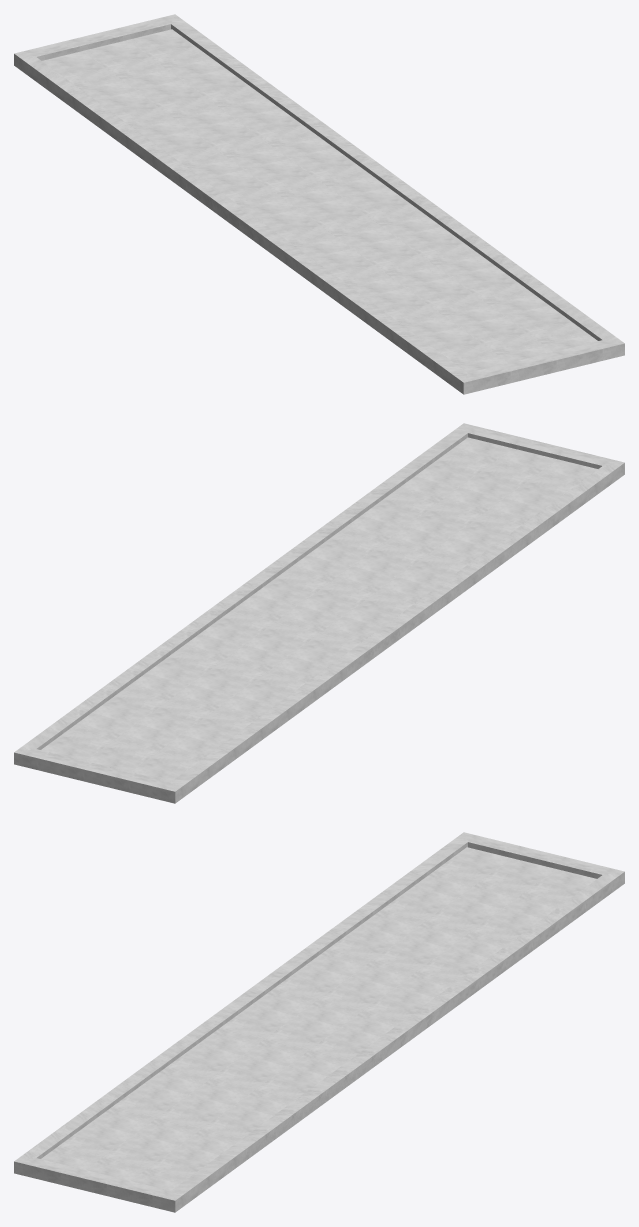
Rendered from RoofUpdate.fbx.
The picture shows the model from 3 angles, top to bottom: view 1: azimuth 30°, elevation 25°; view 2: azimuth 150°, elevation 25°; view 3: azimuth 330°, elevation 25°; orthographic projection.
Parts seen in each view (by area): view 1: RoofBorder, CofferCeiling_17, CofferCeiling_8, CofferCeiling_19, CofferCeiling_4, CofferCeiling_5, CofferCeiling_13, CofferCeiling_23, CofferCeiling_7, CofferCeiling_11, CofferCeiling_14, CofferCeiling_10 (+13 smaller); view 2: RoofBorder, CofferCeiling_11, CofferCeiling_7, CofferCeiling_13, CofferCeiling_20, CofferCeiling_17, CofferCeiling_19, CofferCeiling_4, CofferCeiling_5, CofferCeiling_10, CofferCeiling_16, CofferCeiling_1 (+13 smaller); view 3: RoofBorder, CofferCeiling_15, CofferCeiling_19, CofferCeiling_21, CofferCeiling_3, CofferCeiling_6, CofferCeiling_4, CofferCeiling_18, CofferCeiling_9, CofferCeiling_10, CofferCeiling_13, CofferCeiling_7 (+13 smaller).
Boxes of the visible parts, x1,y1,x2,y2 form: RoofBorder: (14, 14, 624, 394); CofferCeiling_17: (235, 108, 333, 158); CofferCeiling_8: (396, 226, 494, 276); CofferCeiling_19: (136, 79, 234, 129); CofferCeiling_4: (405, 276, 503, 326); CofferCeiling_5: (450, 265, 548, 315); CofferCeiling_13: (244, 158, 342, 208); CofferCeiling_23: (127, 29, 225, 79); CofferCeiling_7: (351, 237, 449, 287); CofferCeiling_11: (343, 187, 440, 237); CofferCeiling_14: (289, 147, 386, 197); CofferCeiling_10: (298, 198, 395, 247); RoofBorder: (14, 423, 624, 803); CofferCeiling_11: (253, 555, 351, 605); CofferCeiling_7: (351, 527, 449, 577); CofferCeiling_13: (244, 606, 342, 655); CofferCeiling_20: (91, 674, 189, 723); CofferCeiling_17: (145, 634, 243, 684); CofferCeiling_19: (136, 685, 234, 734); CofferCeiling_4: (406, 487, 503, 537); CofferCeiling_5: (361, 476, 458, 526); CofferCeiling_10: (298, 566, 395, 616); CofferCeiling_16: (190, 645, 288, 695); CofferCeiling_1: (459, 448, 557, 498); RoofBorder: (14, 832, 624, 1212); CofferCeiling_15: (305, 926, 403, 976); CofferCeiling_19: (404, 897, 502, 947); CofferCeiling_21: (413, 847, 511, 897); CofferCeiling_3: (90, 1083, 188, 1133); CofferCeiling_6: (144, 1044, 242, 1094); CofferCeiling_4: (135, 1094, 233, 1144); CofferCeiling_18: (359, 886, 457, 936); CofferCeiling_9: (198, 1005, 295, 1055); CofferCeiling_10: (243, 1016, 340, 1065); CofferCeiling_13: (296, 976, 394, 1026); CofferCeiling_7: (189, 1055, 287, 1105).
Size of the model in its own units: 1975 by 140 by 9547.
Materials: 25 (25 with a texture image).
